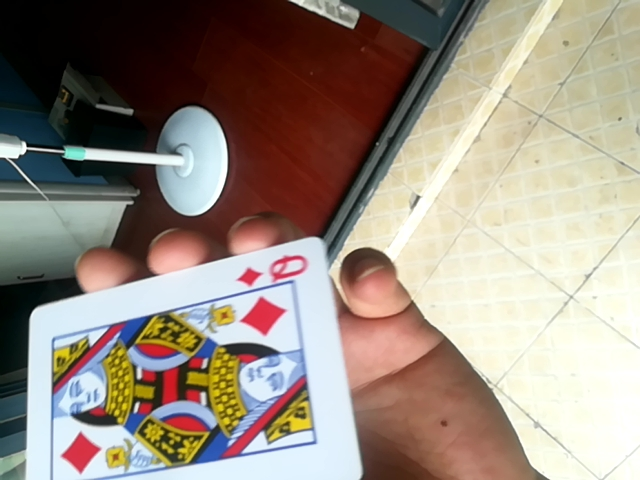fk q: (22, 233, 362, 480)
